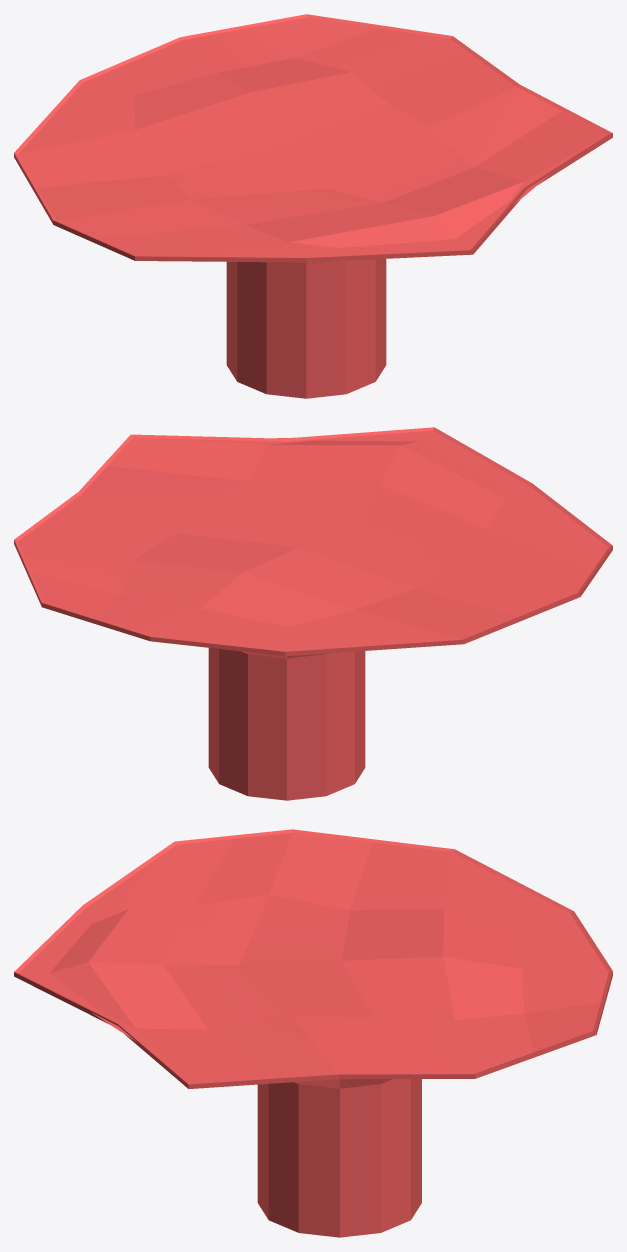
File: SM_coral_06.glb
The picture shows the model from 3 angles, top to bottom: view 1: azimuth 30°, elevation 25°; view 2: azimuth 150°, elevation 25°; view 3: azimuth 270°, elevation 25°; orthographic projection. The views are drawn at different scales.
Parts seen in each view (by area): view 1: SM_coral_06; view 2: SM_coral_06; view 3: SM_coral_06.
Part boxes in pixels (<box>): SM_coral_06: <box>14,14,612,398</box>; SM_coral_06: <box>14,427,612,800</box>; SM_coral_06: <box>14,829,612,1237</box>.
Size of the model in its own units: 1.06 by 0.4729 by 1.05.
1 material, 1 textured.
